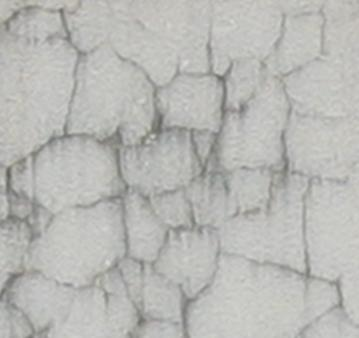retracao: (3, 3, 346, 338)
